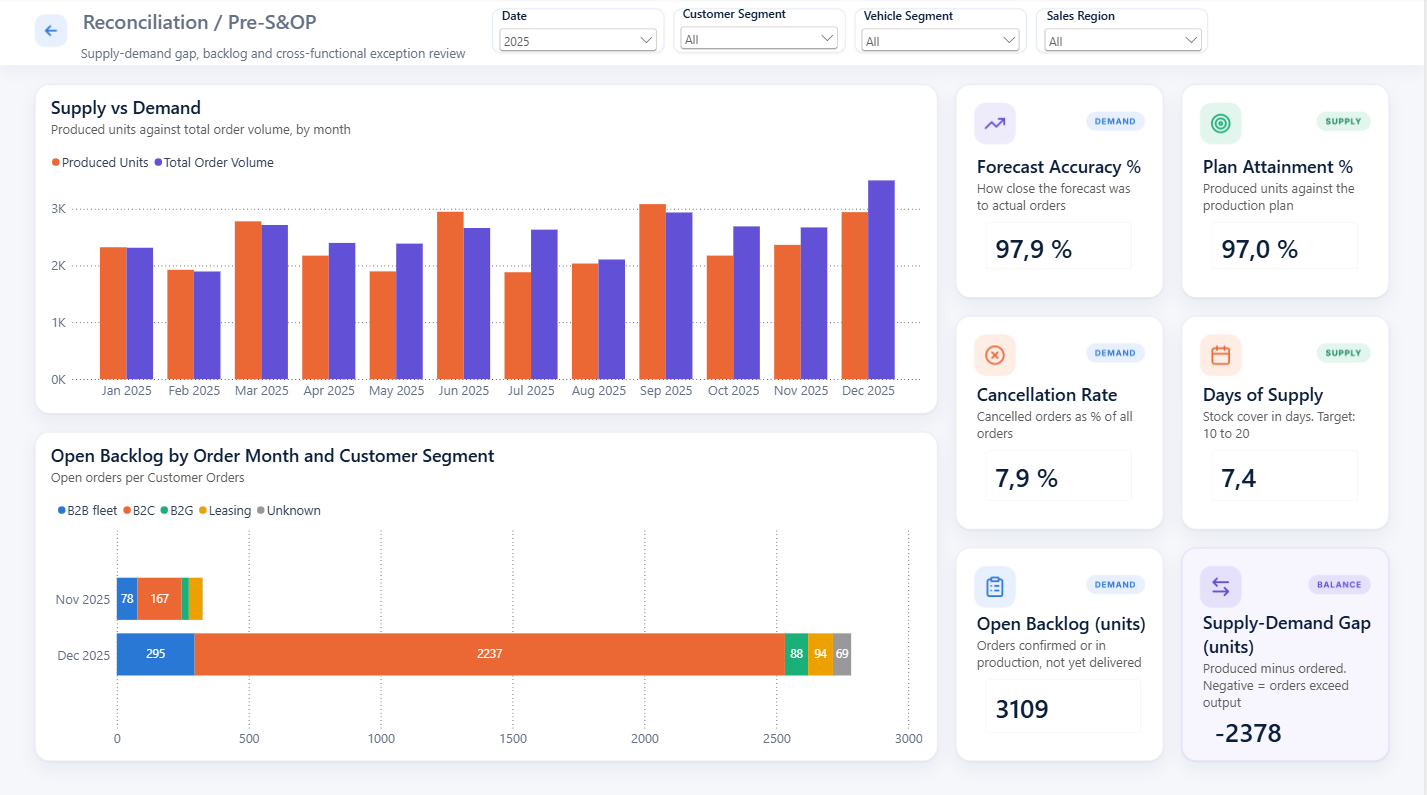

This screenshot's page, from the dashboard's own definition file:
{"tool":"powerbi","page":{"name":"Reconciliation / Pre-S&OP","canvas":[1920,1080],"ordinal":3},"visuals":[{"type":"clusteredColumnChart","title":"Supply vs Demand","fields":{"Category":["Dim_Calendar.MonthYear"],"Y":["_Measures.Produced Units","_Measures.Total Order Volume"]},"box":[64,132,1184,420],"z":0},{"type":"cardVisual","title":"Forecast Accuracy %","fields":{"Data":["_Measures.Forecast Accuracy %"]},"box":[1311.6,211.6,232,172.2],"z":1000},{"type":"barChart","title":"Open Backlog by Order Month and Customer Segment","fields":{"Category":["Dim_Calendar.MonthYear"],"Series":["Dim_Customer.customer_segment"],"Y":["_Measures.Open Backlog (Units)"]},"box":[64,600,1184,420],"z":2000},{"type":"cardVisual","title":"Open Backlog (units)","fields":{"Data":["_Measures.Open Backlog (Units)"]},"box":[1311.6,826.8,243.7,181.8],"z":3000},{"type":"cardVisual","title":"Cancellation Rate","fields":{"Data":["_Measures.Cancellation Rate (Current Month)"]},"box":[1311.6,517.9,232,178],"z":4000},{"type":"cardVisual","title":"Days of Supply","fields":{"Data":["_Measures.Days of Supply (Current Month)"]},"box":[1616.5,517.9,232,178],"z":5000},{"type":"cardVisual","title":"Plan Attainment %","fields":{"Data":["_Measures.Plan Attainment % (Current Month)"]},"box":[1616.5,211.6,232,172.2],"z":6000},{"type":"actionButton","box":[48,26,44,44],"z":8000},{"type":"textbox","box":[107.7,9.4,519.8,48.5],"z":9000},{"type":"textbox","box":[105,58.4,548.6,37.9],"z":10000},{"type":"slicer","fields":{"Values":["Dim_Calendar.year","Dim_Calendar.MonthYear"]},"box":[663.9,9.4,231.6,78.1],"z":11000},{"type":"slicer","fields":{"Values":["Dim_Customer.customer_segment"]},"box":[907.6,6.7,231.6,71.4],"z":12000},{"type":"slicer","fields":{"Values":["Dim_Vehicle_Config.vehicle_segment","Dim_Vehicle_Config.model","Dim_Vehicle_Config.config_id"]},"box":[1151.4,9.4,233,70],"z":13000},{"type":"slicer","fields":{"Values":["Dim_Customer.region"]},"box":[1397.8,9.4,231.6,70],"z":14000},{"type":"cardVisual","title":"Supply-Demand Gap (units)","fields":{"Data":["_Measures.Supply-Demand Gap"]},"box":[1616,825.5,242.4,195.3],"z":15000}]}

Visuals, with their boxes in screenshot pixels (x1, y1, x2, y2), scaled from the page's 1920x1080 canvas onto the 1427x795 screenshot:
"Supply vs Demand" clusteredColumnChart: crop(48, 97, 928, 406)
"Forecast Accuracy %" cardVisual: crop(975, 156, 1147, 283)
"Open Backlog by Order Month and Customer Segment" barChart: crop(48, 442, 928, 751)
"Open Backlog (units)" cardVisual: crop(975, 609, 1156, 742)
"Cancellation Rate" cardVisual: crop(975, 381, 1147, 512)
"Days of Supply" cardVisual: crop(1201, 381, 1374, 512)
"Plan Attainment %" cardVisual: crop(1201, 156, 1374, 283)
actionButton: crop(36, 19, 68, 52)
textbox: crop(80, 7, 466, 43)
textbox: crop(78, 43, 486, 71)
slicer - Dim_Calendar.year x Dim_Calendar.MonthYear: crop(493, 7, 666, 64)
slicer - Dim_Customer.customer_segment: crop(675, 5, 847, 57)
slicer - Dim_Vehicle_Config.vehicle_segment x Dim_Vehicle_Config.model: crop(856, 7, 1029, 58)
slicer - Dim_Customer.region: crop(1039, 7, 1211, 58)
"Supply-Demand Gap (units)" cardVisual: crop(1201, 608, 1381, 751)
